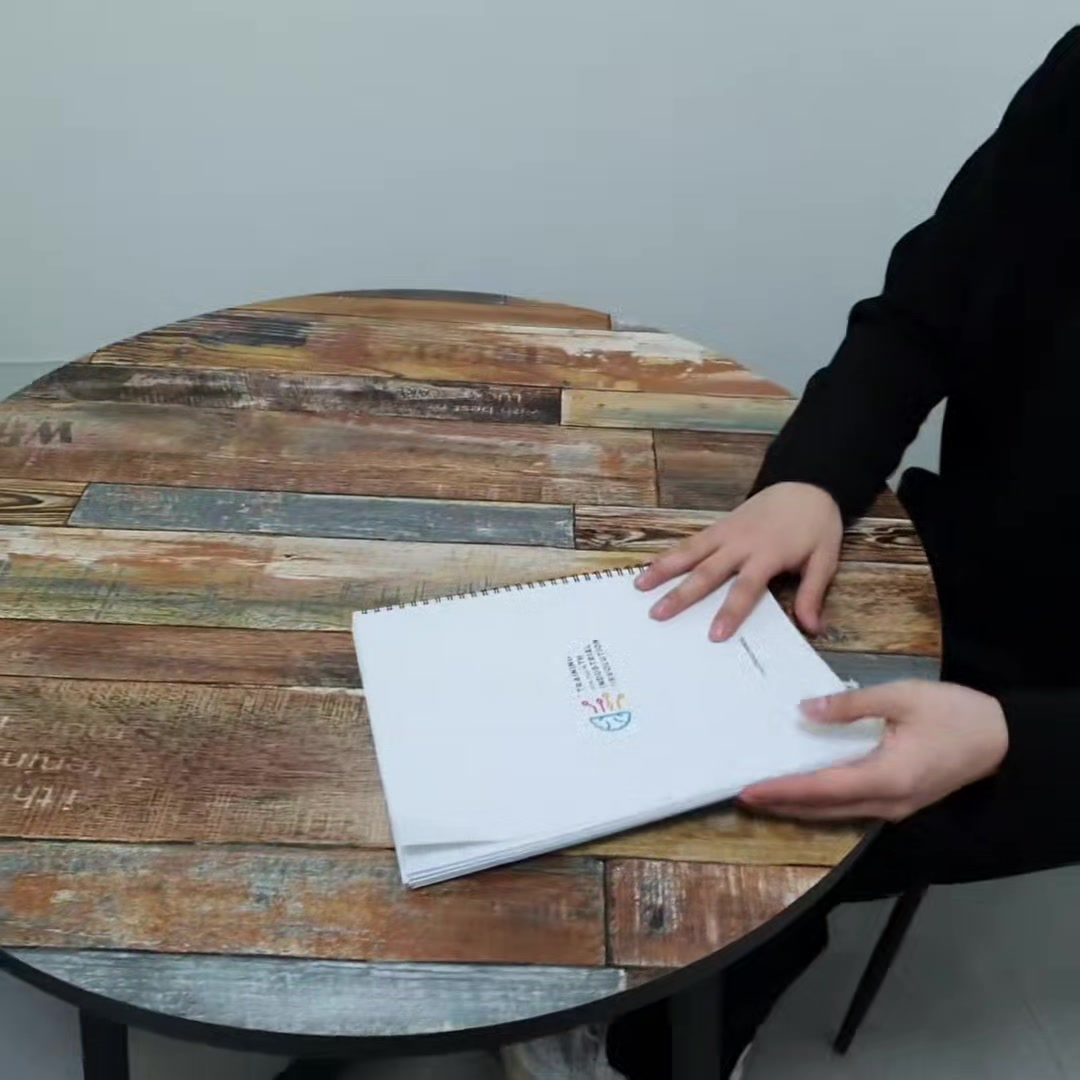book: (340, 505, 896, 889)
